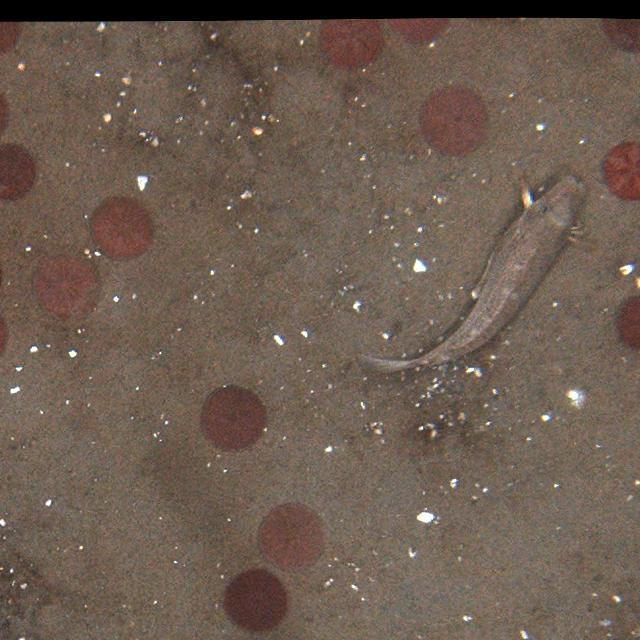roundfish: (354, 168, 592, 380)
